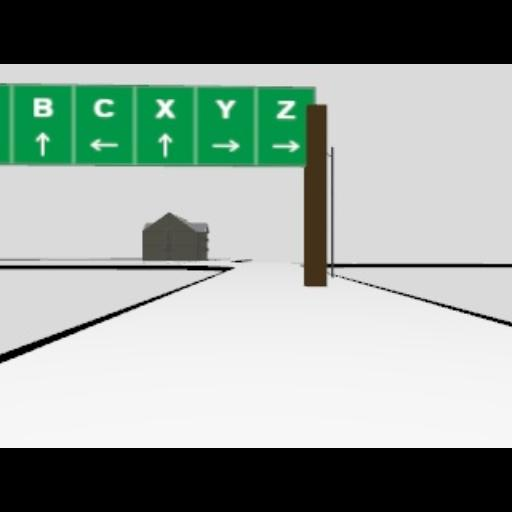B: (32, 96, 52, 116)
C: (92, 98, 114, 116)
Left: (88, 138, 118, 150)
Right: (270, 140, 300, 152), (212, 140, 240, 152)
Straight: (157, 131, 173, 157), (34, 131, 50, 155)
X: (154, 98, 176, 118)
Y: (215, 98, 237, 118)
Z: (276, 98, 296, 118)
